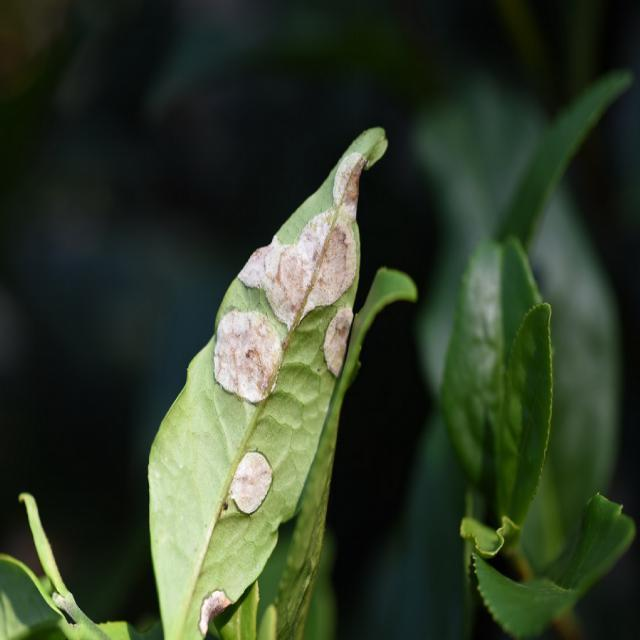Tea cake: (241, 153, 360, 309), (208, 307, 281, 402), (229, 453, 276, 514), (191, 580, 239, 637), (321, 312, 357, 376)
